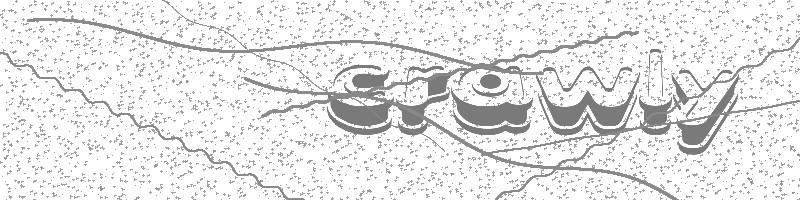a: (450, 65, 534, 136)
c: (326, 63, 393, 135)
l: (639, 47, 672, 136)
r: (397, 64, 449, 136)
w: (536, 66, 641, 136)
y: (672, 68, 740, 156)
